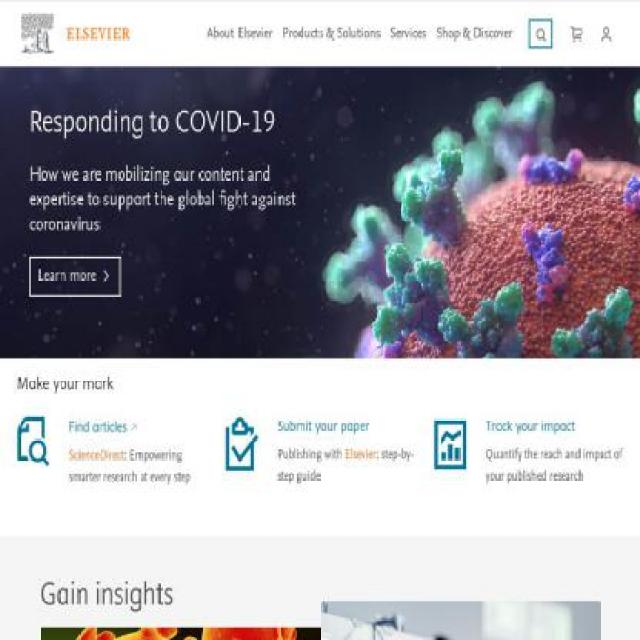button: (319, 600, 601, 638), (20, 13, 131, 53), (29, 256, 122, 296), (39, 627, 321, 639), (282, 23, 381, 45), (436, 23, 513, 45), (207, 23, 273, 45), (592, 14, 620, 52), (390, 23, 427, 45), (16, 430, 50, 450), (224, 432, 258, 452), (433, 432, 467, 452)
